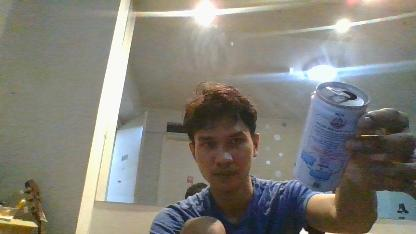Can: (293, 80, 373, 196)
